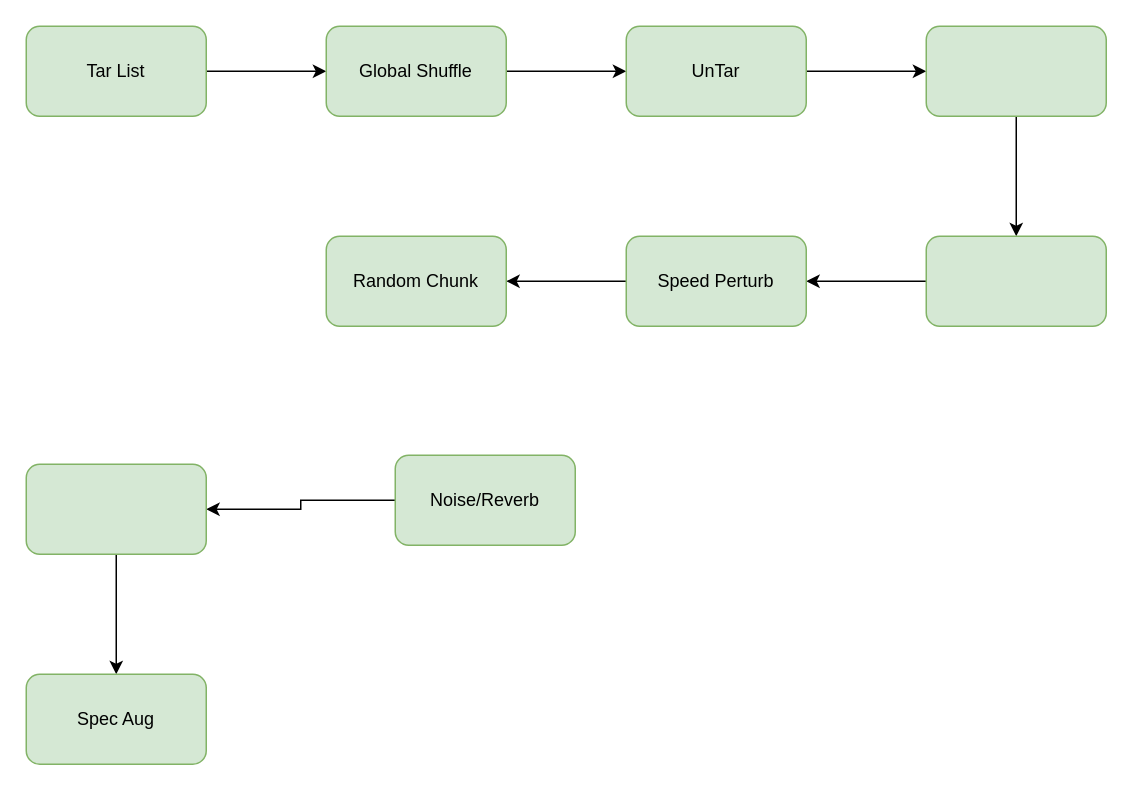
The diagram is 1133 pixels wide and 791 high, and some of its shapes have lost their labels. The shapes that lost their labels are listed below. From the top down, each one's centre as x and y in pixels, then its label:
At [1015,70]: "Local Shuffle".
At [1015,280]: "Spk2Id".
At [115,508]: "Fbank".
